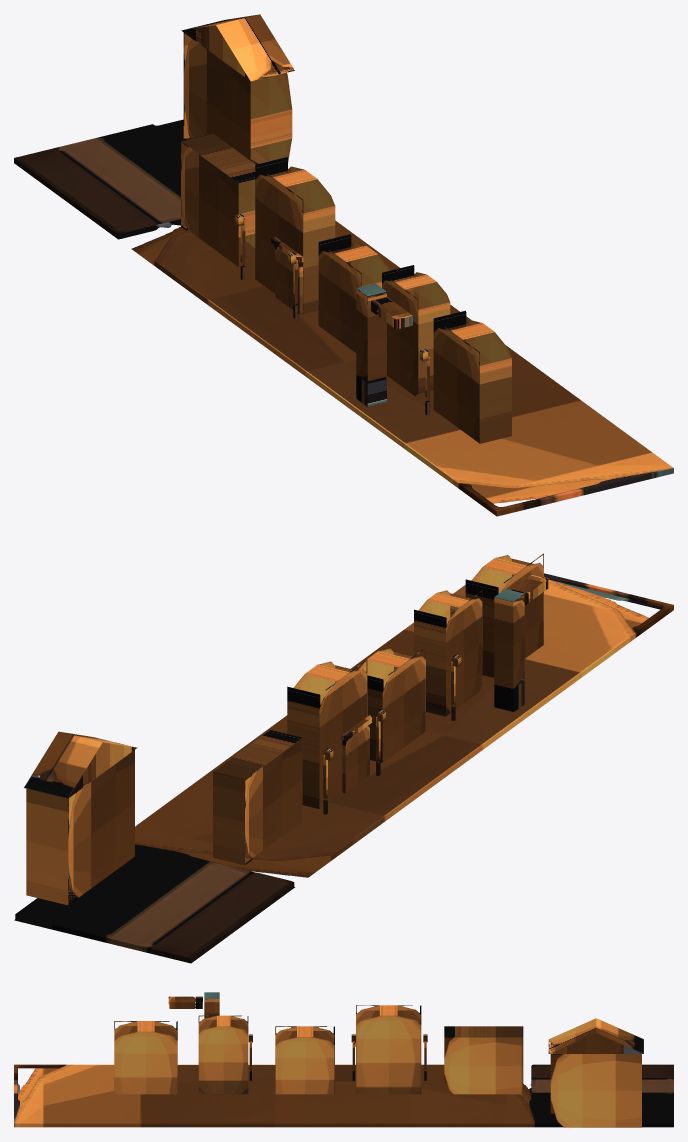
Rendered from environment.obj.
The picture shows the model from 3 angles, top to bottom: view 1: azimuth 30°, elevation 25°; view 2: azimuth 150°, elevation 25°; view 3: azimuth 270°, elevation 25°; orthographic projection. The views are drawn at different scales.
Parts seen in each view (by area): view 1: RND_StreetProxy_EnvironmentBakedAtlas; view 2: RND_StreetProxy_EnvironmentBakedAtlas; view 3: RND_StreetProxy_EnvironmentBakedAtlas.
Boxes of the visible parts, x1,y1,x2,y2 form: RND_StreetProxy_EnvironmentBakedAtlas: (14, 14, 673, 516); RND_StreetProxy_EnvironmentBakedAtlas: (14, 553, 673, 963); RND_StreetProxy_EnvironmentBakedAtlas: (14, 992, 673, 1127).
Bounding box in the file's own units: 7.7 × 5.6 × 34.
1 material, 1 textured.
